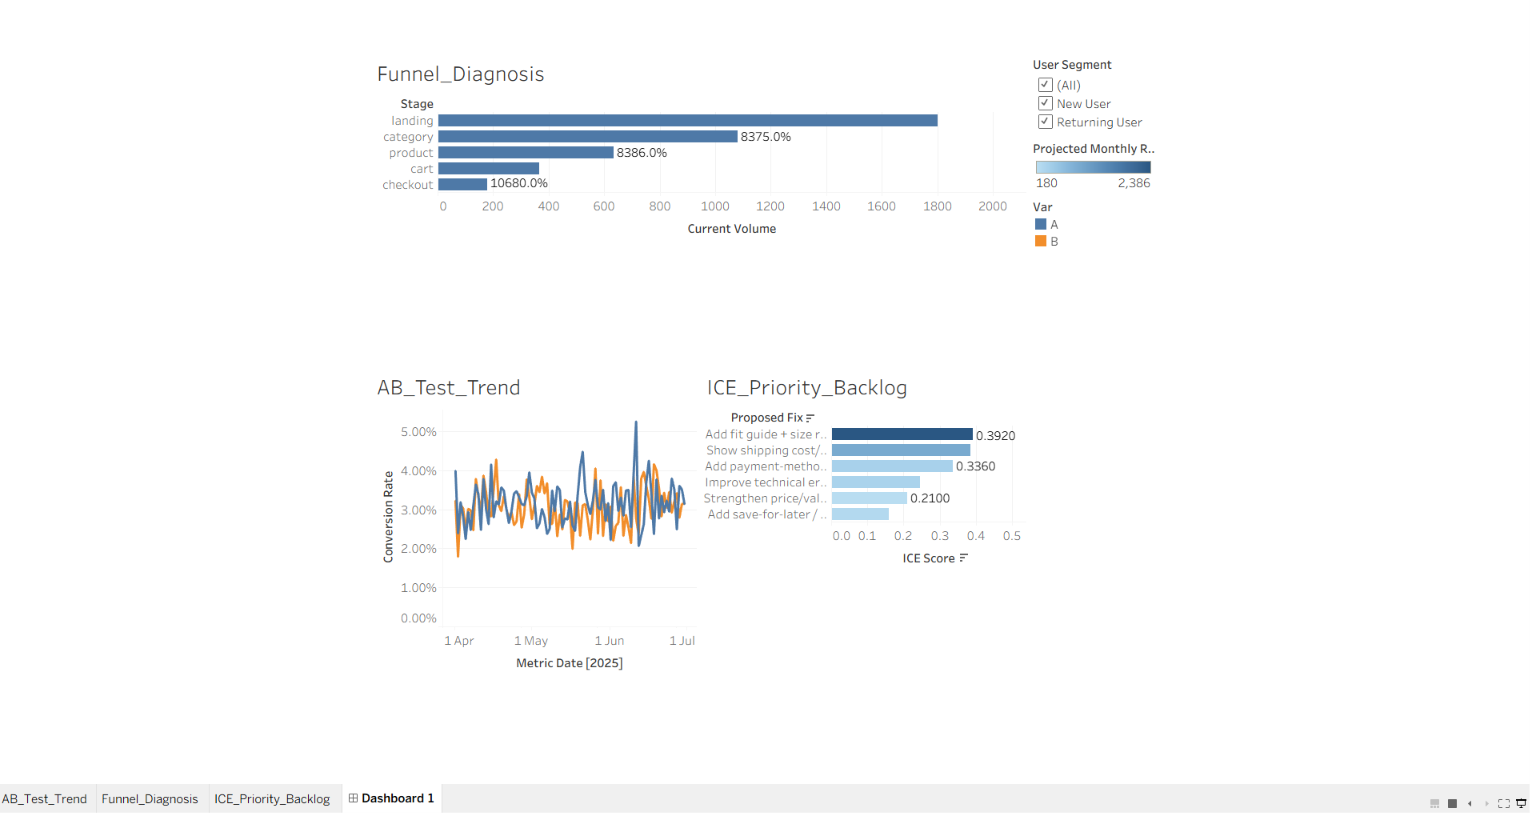

This screenshot's page, from the dashboard's own definition file:
{"tool":"tableau","page":{"name":"Dashboard 1","canvas":[1000,800],"ordinal":0},"visuals":[{"type":"worksheet","title":"Funnel_Diagnosis","mark":"Automatic","rows":["stage"],"cols":["current_volume"],"box":[8,8,824,392]},{"type":"filter","title":"Funnel_Diagnosis","param":"[federated.0l3x10h0qjt2m115znsla10fegj8].[none:user_segment:nk]","box":[832,8,160,105]},{"type":"legend","title":"ICE_Priority_Backlog","param":"[federated.19bkg9l0i7zkgt1f4lu3t01uvqyn].[sum:Projected Monthly Revenue:qk]","box":[832,113,160,73]},{"type":"legend","title":"AB_Test_Trend","param":"[federated.0yac12i11779xy17zhx6n0m8r7tk].[none:Var:nk]","box":[832,186,160,72]},{"type":"worksheet","title":"AB_Test_Trend","mark":"Automatic","rows":["Calculation_0487130534162432"],"cols":["metric_date"],"box":[8,400,412,392]},{"type":"worksheet","title":"ICE_Priority_Backlog","mark":"Automatic","rows":["Proposed Fix"],"cols":["ICE Score"],"box":[420,400,412,392]}]}

Visuals, with their boxes on the page's 1000x800 design canvas (x1, y1, x2, y2). These are canvas units, not pixel positions in the 1530x813 screenshot, which may show the page scaled, cropped or inside an application window:
"Funnel_Diagnosis" worksheet: detection(8, 8, 832, 400)
"Funnel_Diagnosis" filter: detection(832, 8, 992, 113)
"ICE_Priority_Backlog" legend: detection(832, 113, 992, 186)
"AB_Test_Trend" legend: detection(832, 186, 992, 258)
"AB_Test_Trend" worksheet: detection(8, 400, 420, 792)
"ICE_Priority_Backlog" worksheet: detection(420, 400, 832, 792)
